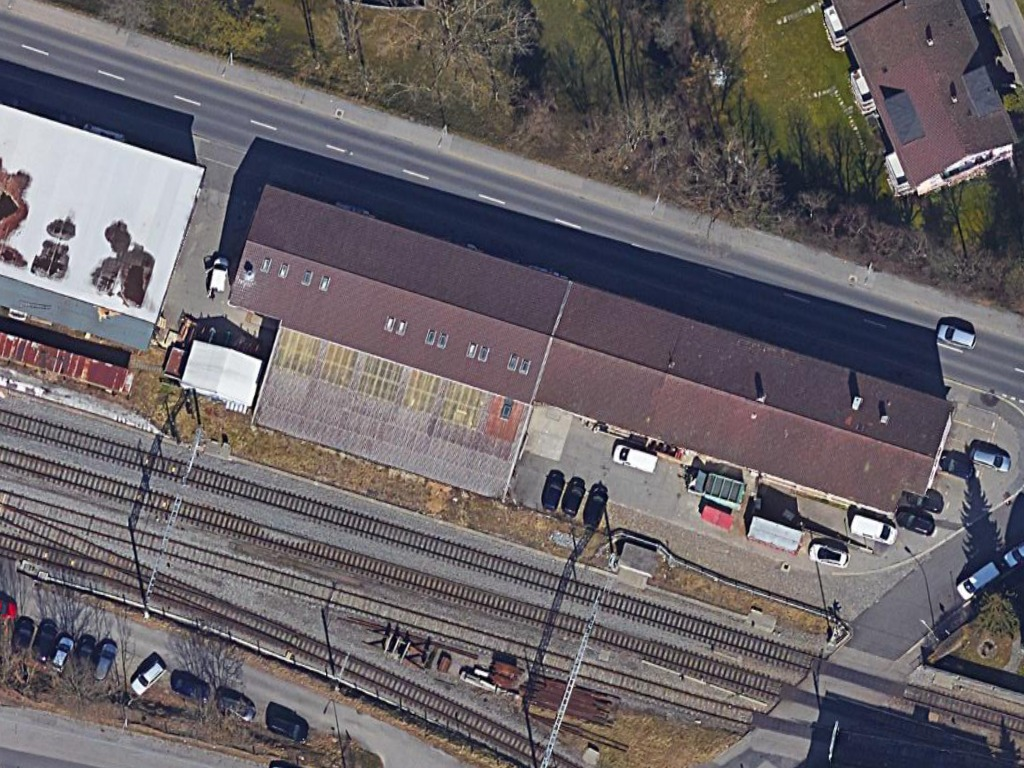car: (125, 653, 169, 702), (799, 537, 856, 571), (964, 442, 1016, 477), (931, 319, 982, 353), (90, 638, 118, 687)
van: (951, 557, 1003, 607), (842, 508, 903, 548), (609, 441, 664, 476)
